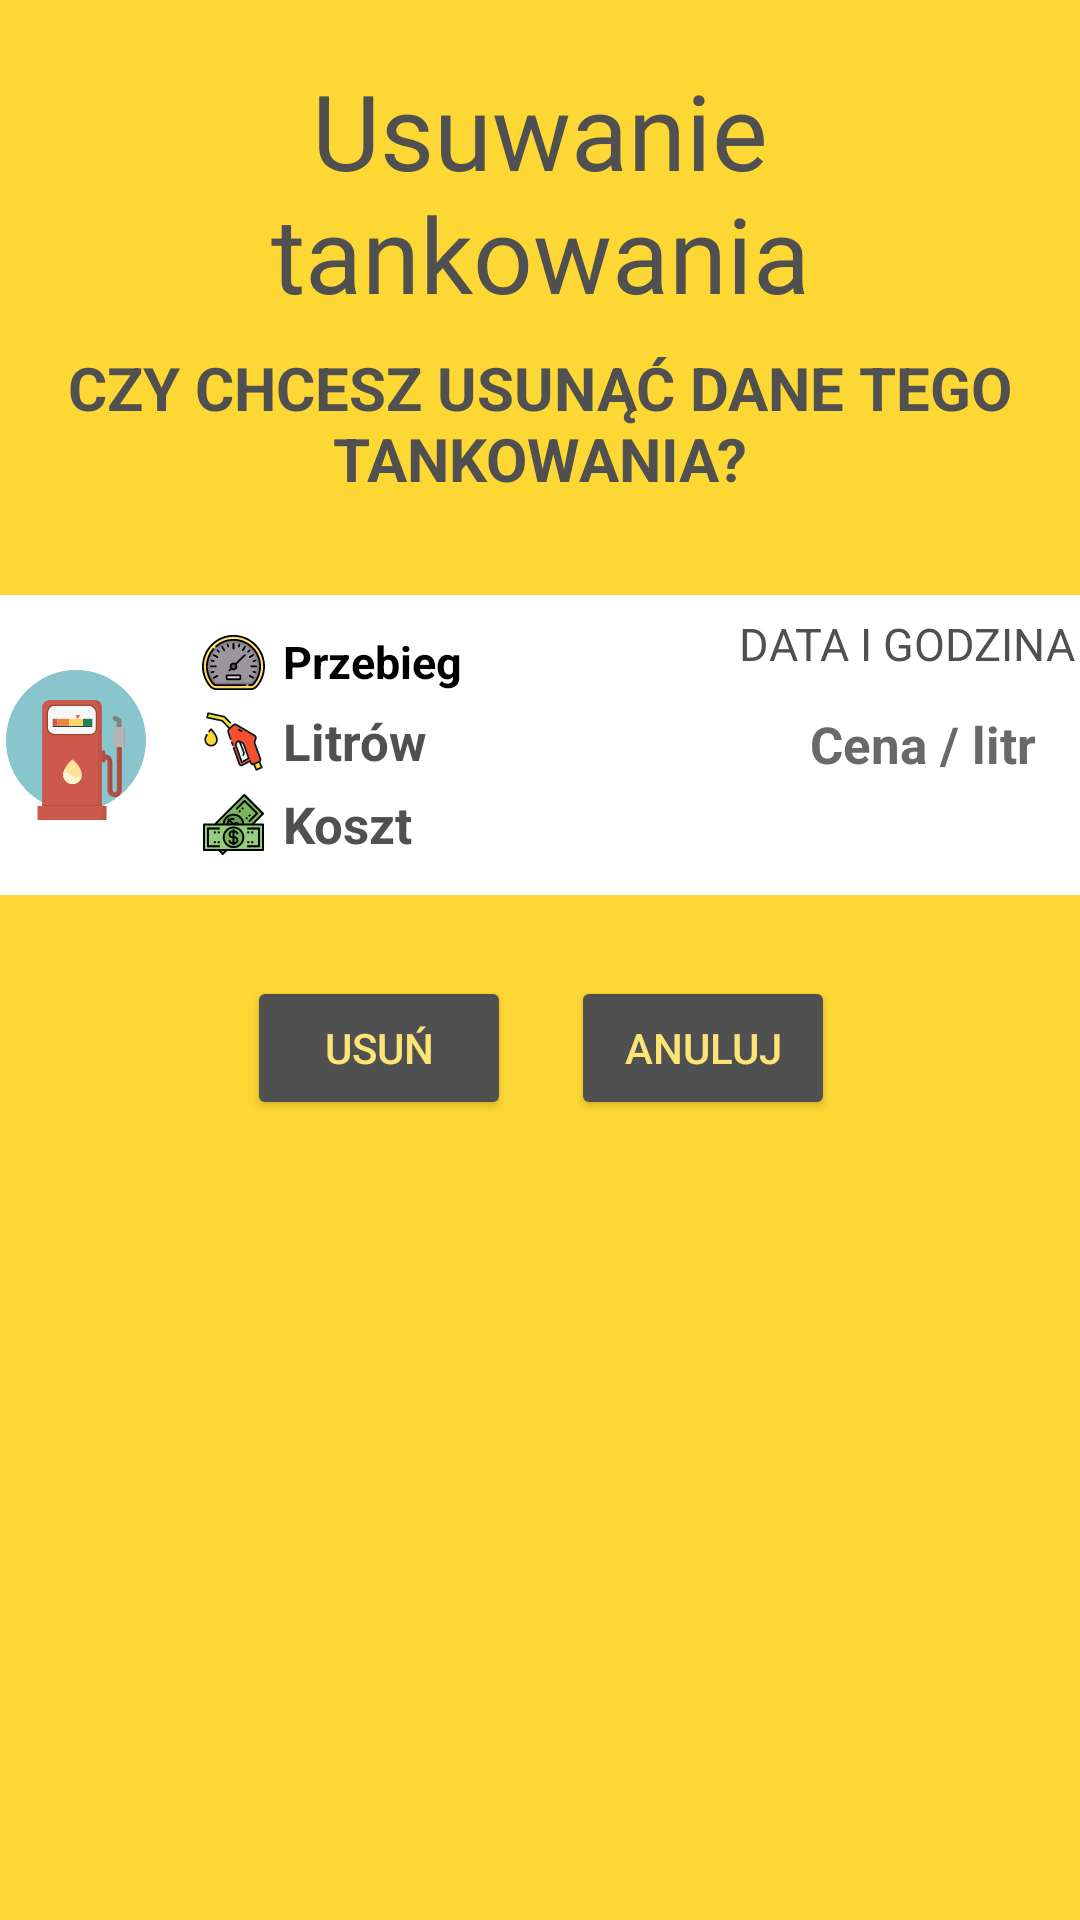

Named icons in this screenshot (1080w x 1920h) and their bounding boxes, (left=x1, top=y1, right=x2, bottom=y2):
fuel dispenser: (left=6, top=670, right=146, bottom=820)
gas: (left=204, top=712, right=263, bottom=771)
money: (left=203, top=794, right=264, bottom=855)
speedometer: (left=202, top=635, right=265, bottom=690)
